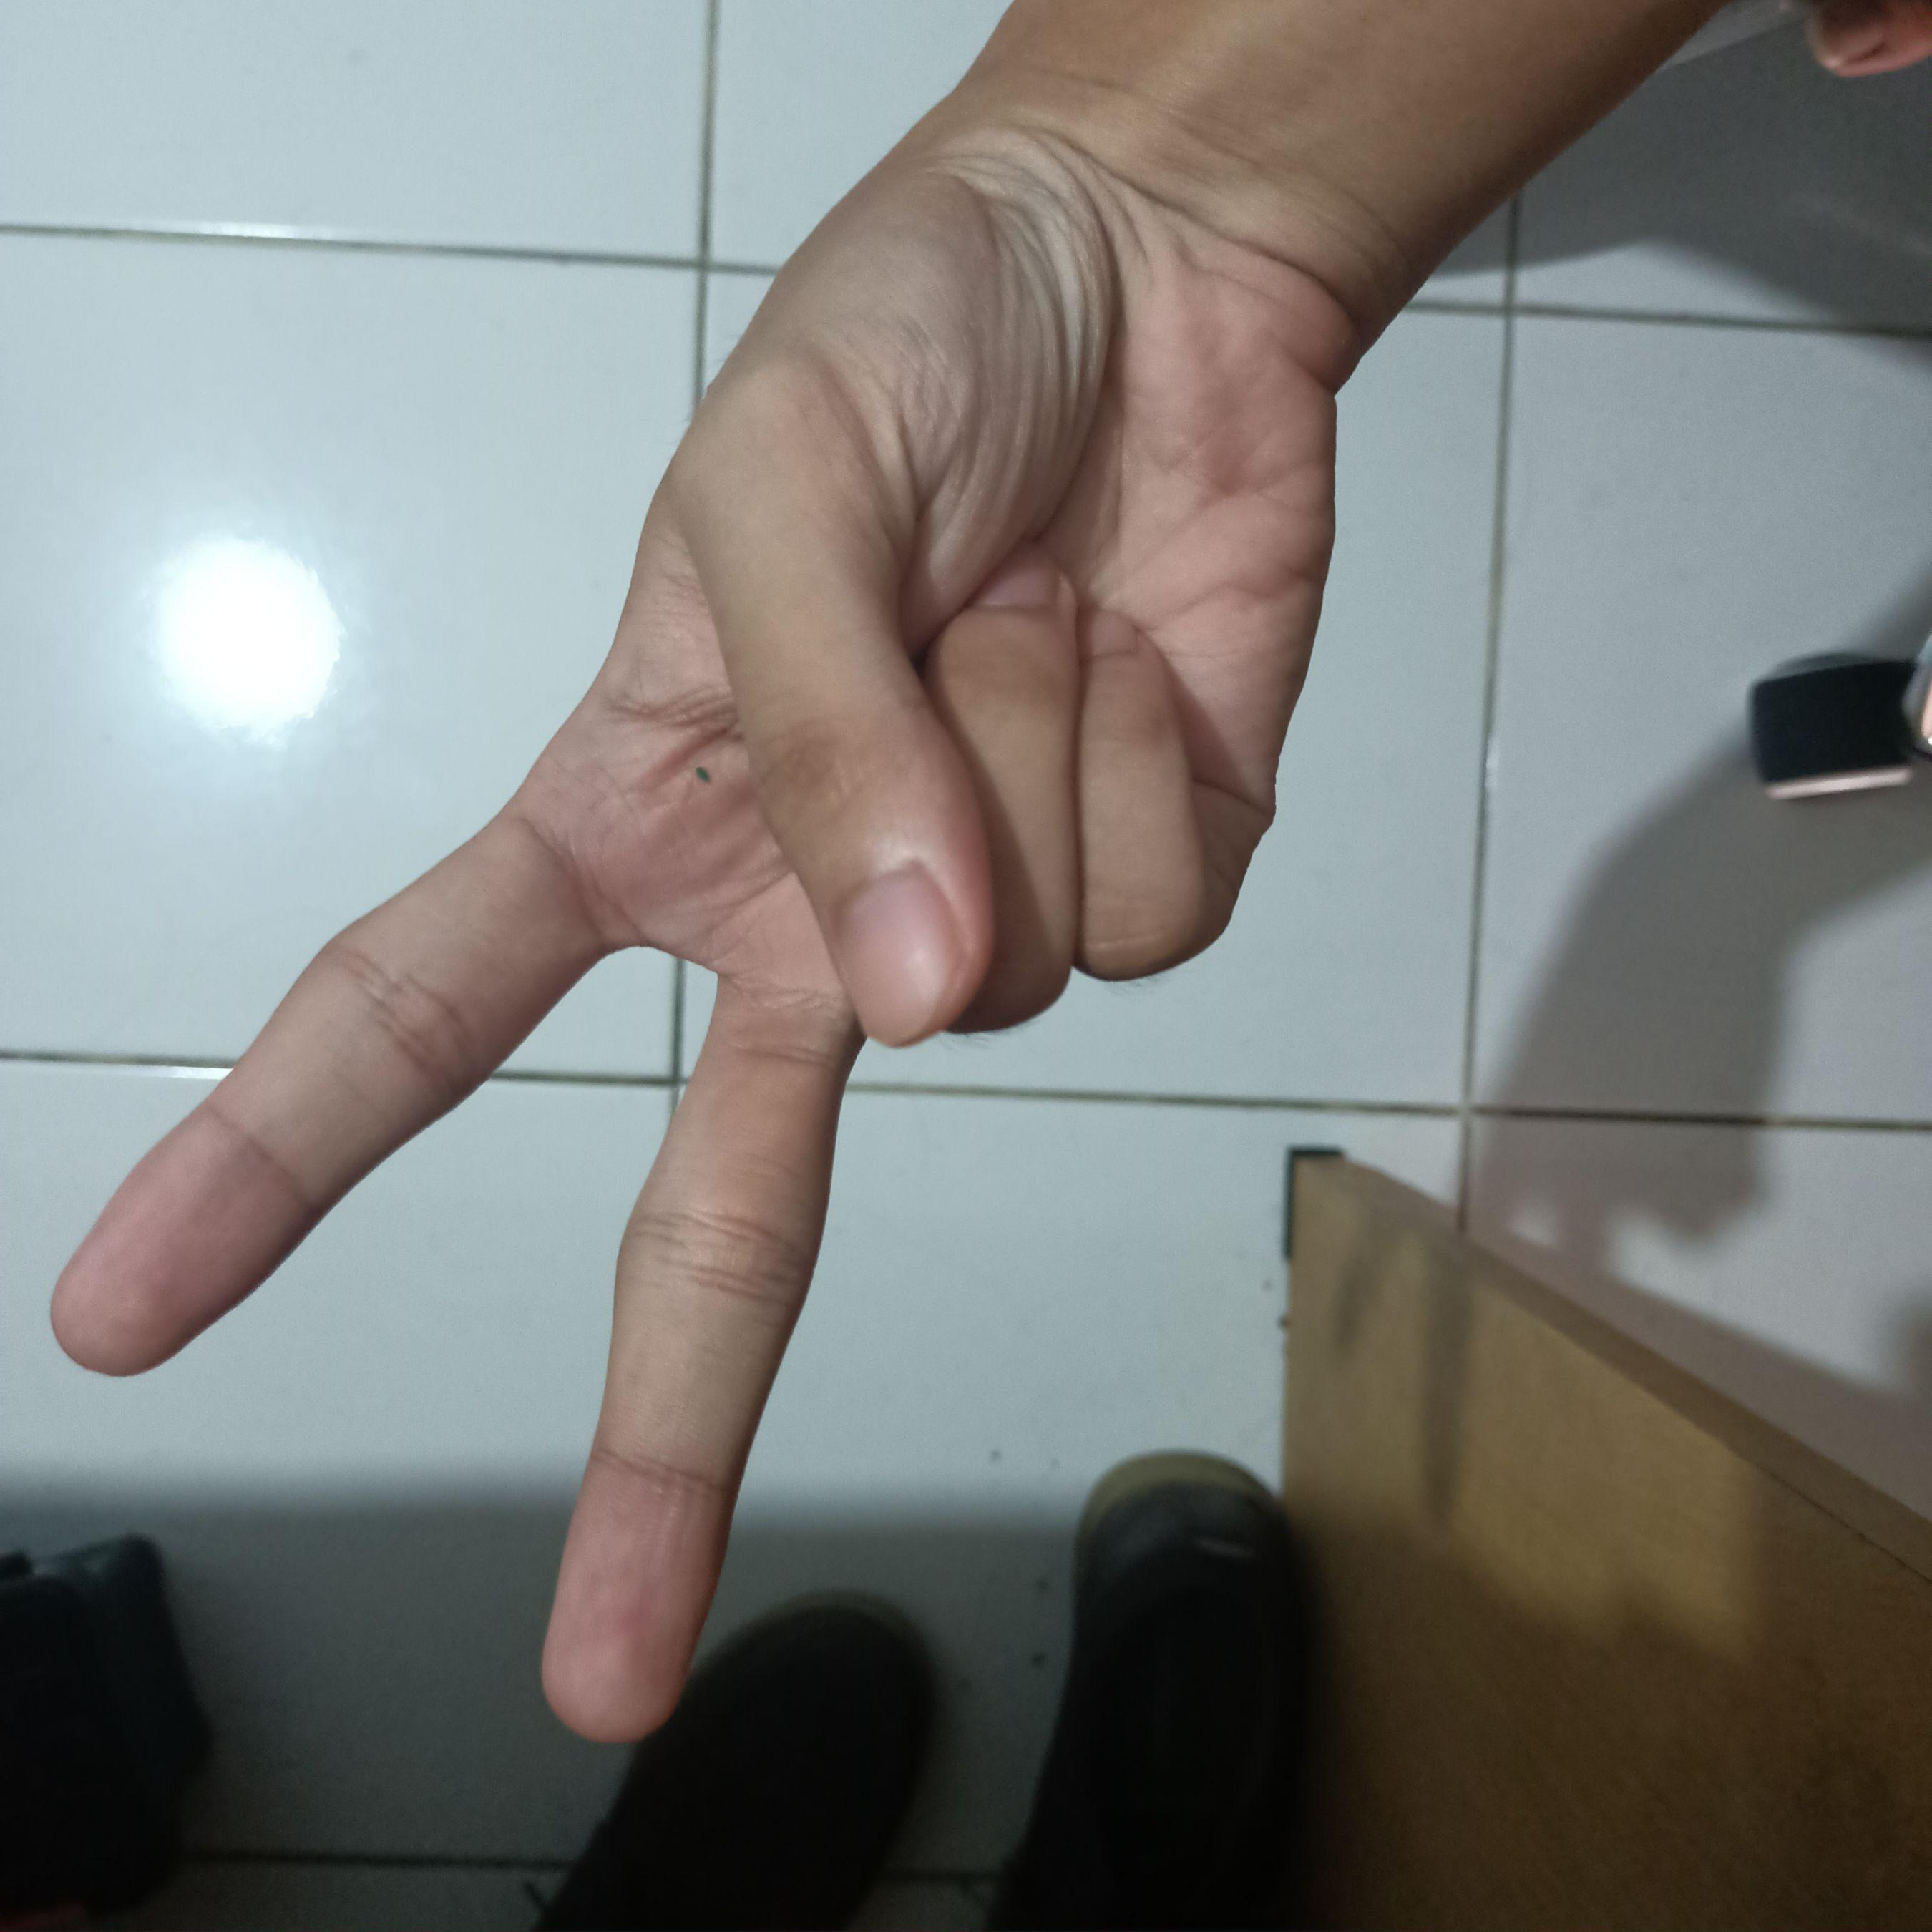scissors: (14, 149, 1380, 1789)
